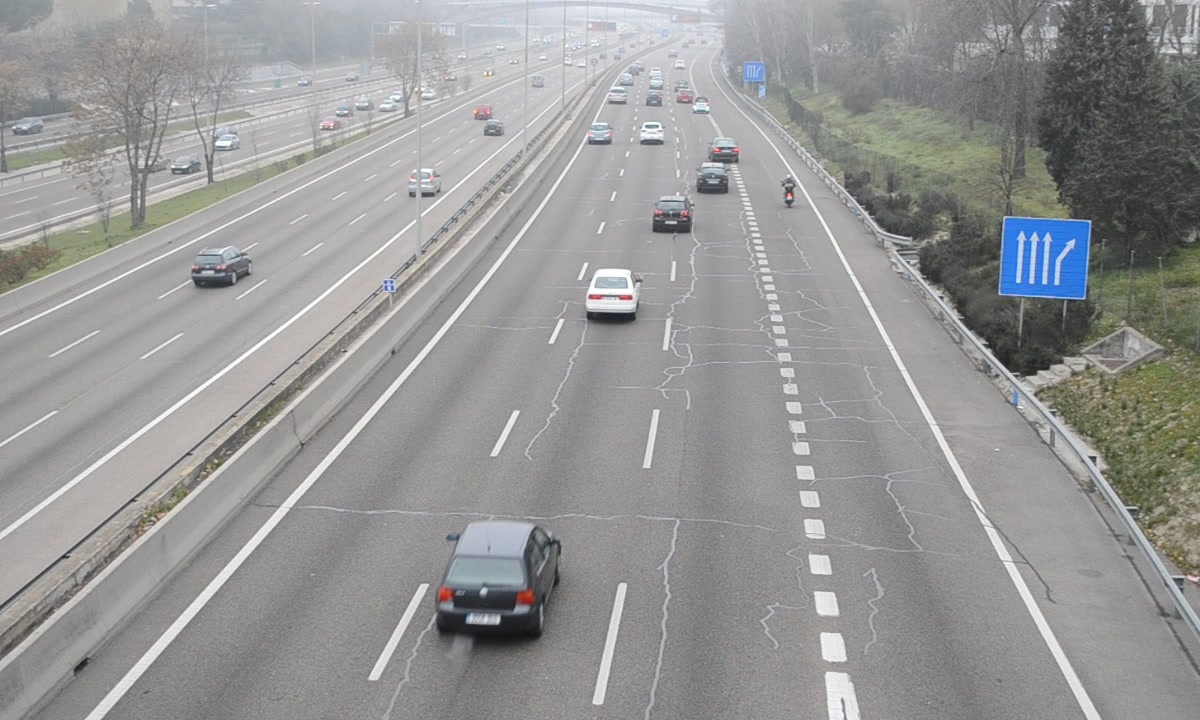car: (437, 520, 561, 637), (585, 268, 641, 314), (653, 196, 693, 233), (697, 162, 730, 194), (710, 137, 742, 161), (639, 120, 666, 144), (587, 122, 612, 144)
motorcycle: (782, 174, 799, 208)
